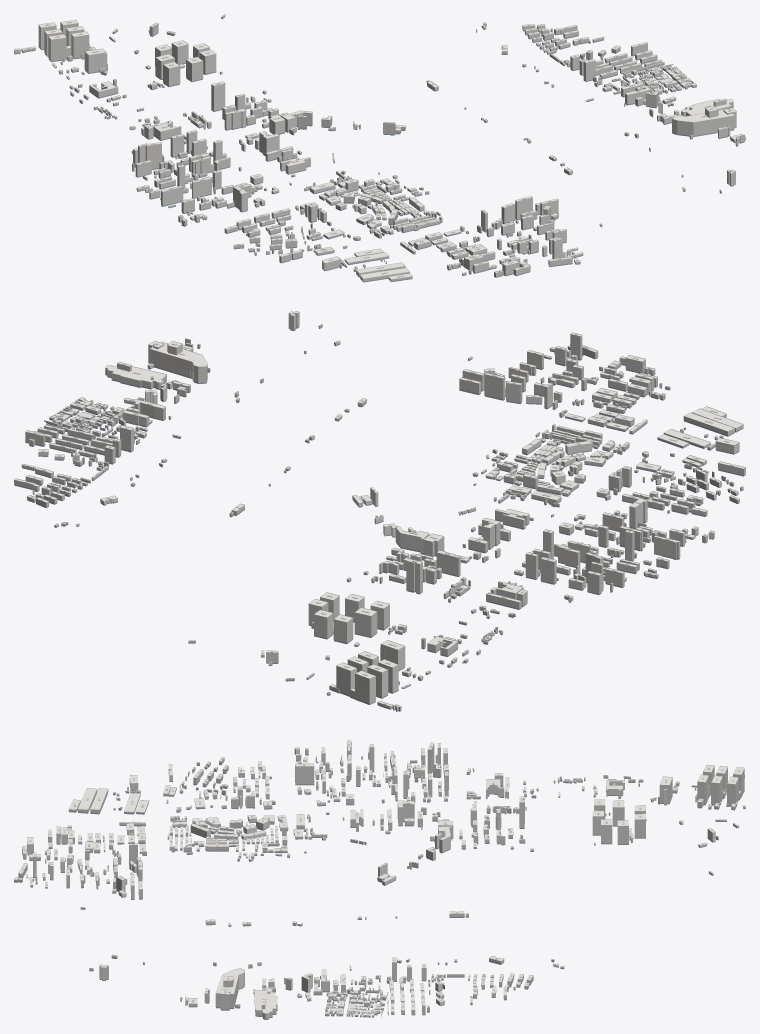
File: city_near.glb
3 renders of one model, top to bottom at view 1: azimuth 30°, elevation 25°; view 2: azimuth 150°, elevation 25°; view 3: azimuth 270°, elevation 25°, orthographic. The views are drawn at different scales.
Parts seen in each view (by area): view 1: city_tile_-2_1, city_tile_-1_2, city_tile_2_1, city_tile_-1_3, city_tile_-2_2, city_tile_-1_0, city_tile_2_2, city_tile_-1_-1, city_tile_-2_-2, city_tile_-2_0, city_tile_0_3, city_tile_-2_3 (+7 smaller); view 2: city_tile_-1_2, city_tile_-2_1, city_tile_2_1, city_tile_-1_3, city_tile_-2_2, city_tile_-1_0, city_tile_2_2, city_tile_-2_0, city_tile_-1_-1, city_tile_-2_-2, city_tile_0_3, city_tile_-2_3 (+7 smaller); view 3: city_tile_-1_2, city_tile_-2_1, city_tile_2_1, city_tile_-1_3, city_tile_-2_2, city_tile_2_2, city_tile_-1_-1, city_tile_-2_-2, city_tile_-1_0, city_tile_-2_0, city_tile_-1_1, city_tile_-2_3 (+5 smaller).
Part boxes in pixels (bbox=[...]): city_tile_-2_1: bbox=[135, 138, 312, 212]; city_tile_-1_2: bbox=[309, 175, 442, 238]; city_tile_2_1: bbox=[595, 42, 696, 108]; city_tile_-1_3: bbox=[400, 209, 547, 275]; city_tile_-2_2: bbox=[202, 194, 360, 263]; city_tile_-1_0: bbox=[211, 81, 312, 144]; city_tile_2_2: bbox=[657, 98, 745, 146]; city_tile_-1_-1: bbox=[134, 40, 222, 87]; city_tile_-2_-2: bbox=[14, 19, 96, 68]; city_tile_-2_0: bbox=[104, 108, 242, 167]; city_tile_0_3: bbox=[501, 196, 602, 254]; city_tile_-2_3: bbox=[315, 245, 412, 282]; city_tile_-1_2: bbox=[472, 424, 629, 503]; city_tile_-2_1: bbox=[495, 498, 666, 587]; city_tile_2_1: bbox=[25, 389, 165, 461]; city_tile_-1_3: bbox=[526, 354, 670, 434]; city_tile_-2_2: bbox=[562, 451, 745, 533]; city_tile_-1_0: bbox=[346, 526, 481, 594]; city_tile_2_2: bbox=[105, 338, 210, 401]; city_tile_-2_0: bbox=[443, 552, 603, 635]; city_tile_-1_-1: bbox=[308, 592, 389, 660]; city_tile_-2_-2: bbox=[326, 651, 410, 711]; city_tile_0_3: bbox=[459, 346, 570, 403]; city_tile_-2_3: bbox=[657, 406, 743, 465]; city_tile_-1_2: bbox=[169, 814, 304, 861]; city_tile_-2_1: bbox=[295, 742, 434, 820]; city_tile_2_1: bbox=[301, 969, 430, 1017]; city_tile_-1_3: bbox=[45, 821, 169, 874]; city_tile_-2_2: bbox=[168, 761, 301, 820]; city_tile_2_2: bbox=[180, 968, 302, 1019]; city_tile_-1_-1: bbox=[592, 799, 683, 845]; city_tile_-2_-2: bbox=[691, 764, 745, 810]; city_tile_-1_0: bbox=[430, 796, 533, 853]; city_tile_-2_0: bbox=[432, 743, 562, 816]; city_tile_-1_1: bbox=[303, 800, 435, 869]; city_tile_-2_3: bbox=[68, 775, 170, 814].
Bounding box in the file's own units: 2412 × 112 × 2796.
